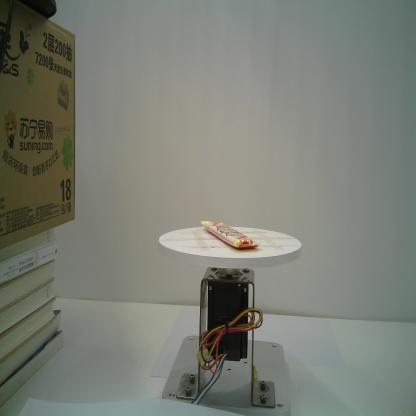Chocolate: (201, 219, 262, 250)
